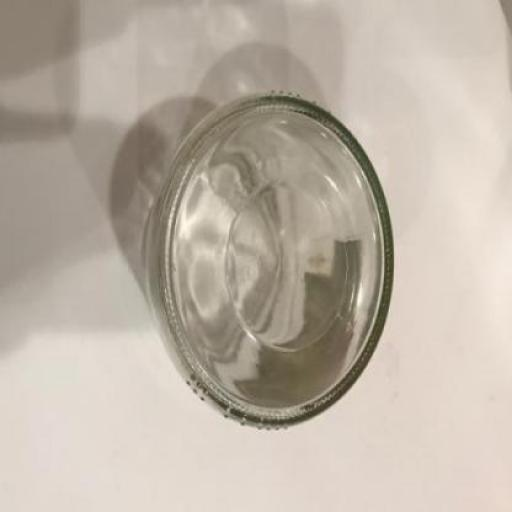glass: (144, 94, 396, 432)
